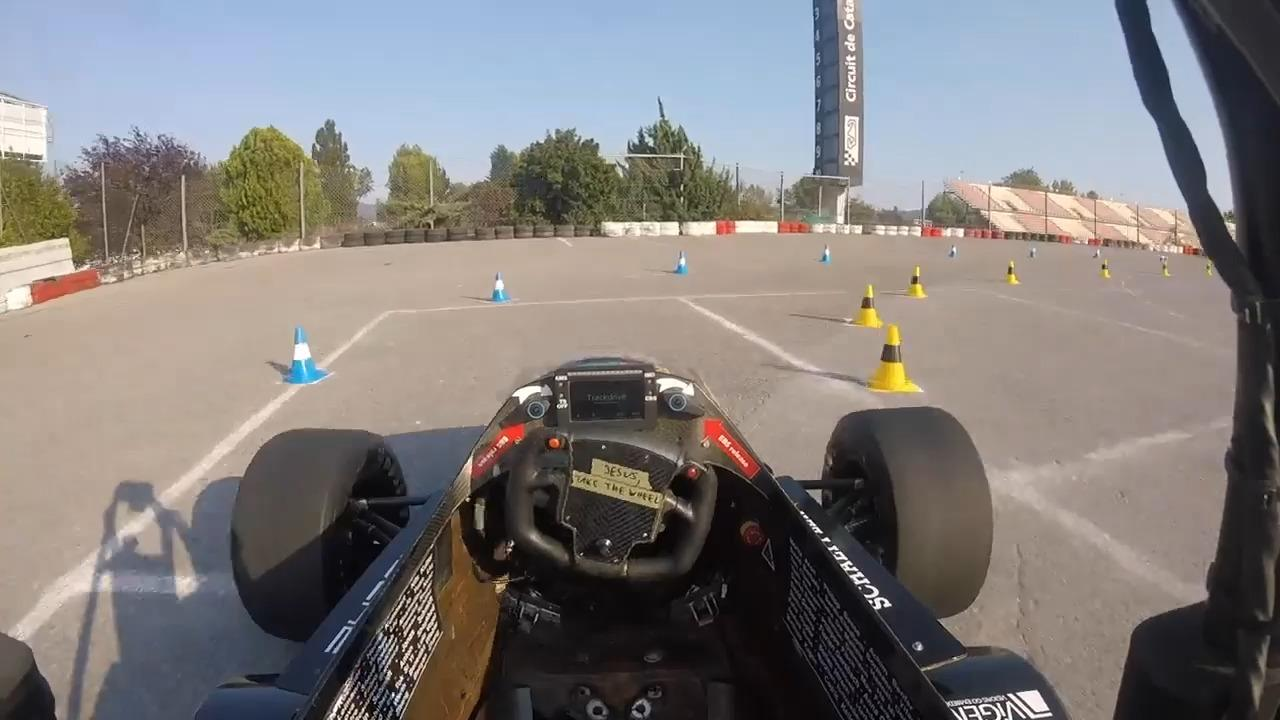blue_cone: (285, 326, 327, 386), (492, 272, 509, 304), (675, 251, 689, 276), (820, 244, 833, 263)
yellow_cone: (866, 323, 918, 392), (852, 284, 885, 330), (906, 266, 929, 299), (1003, 260, 1019, 286), (1098, 258, 1113, 279)
